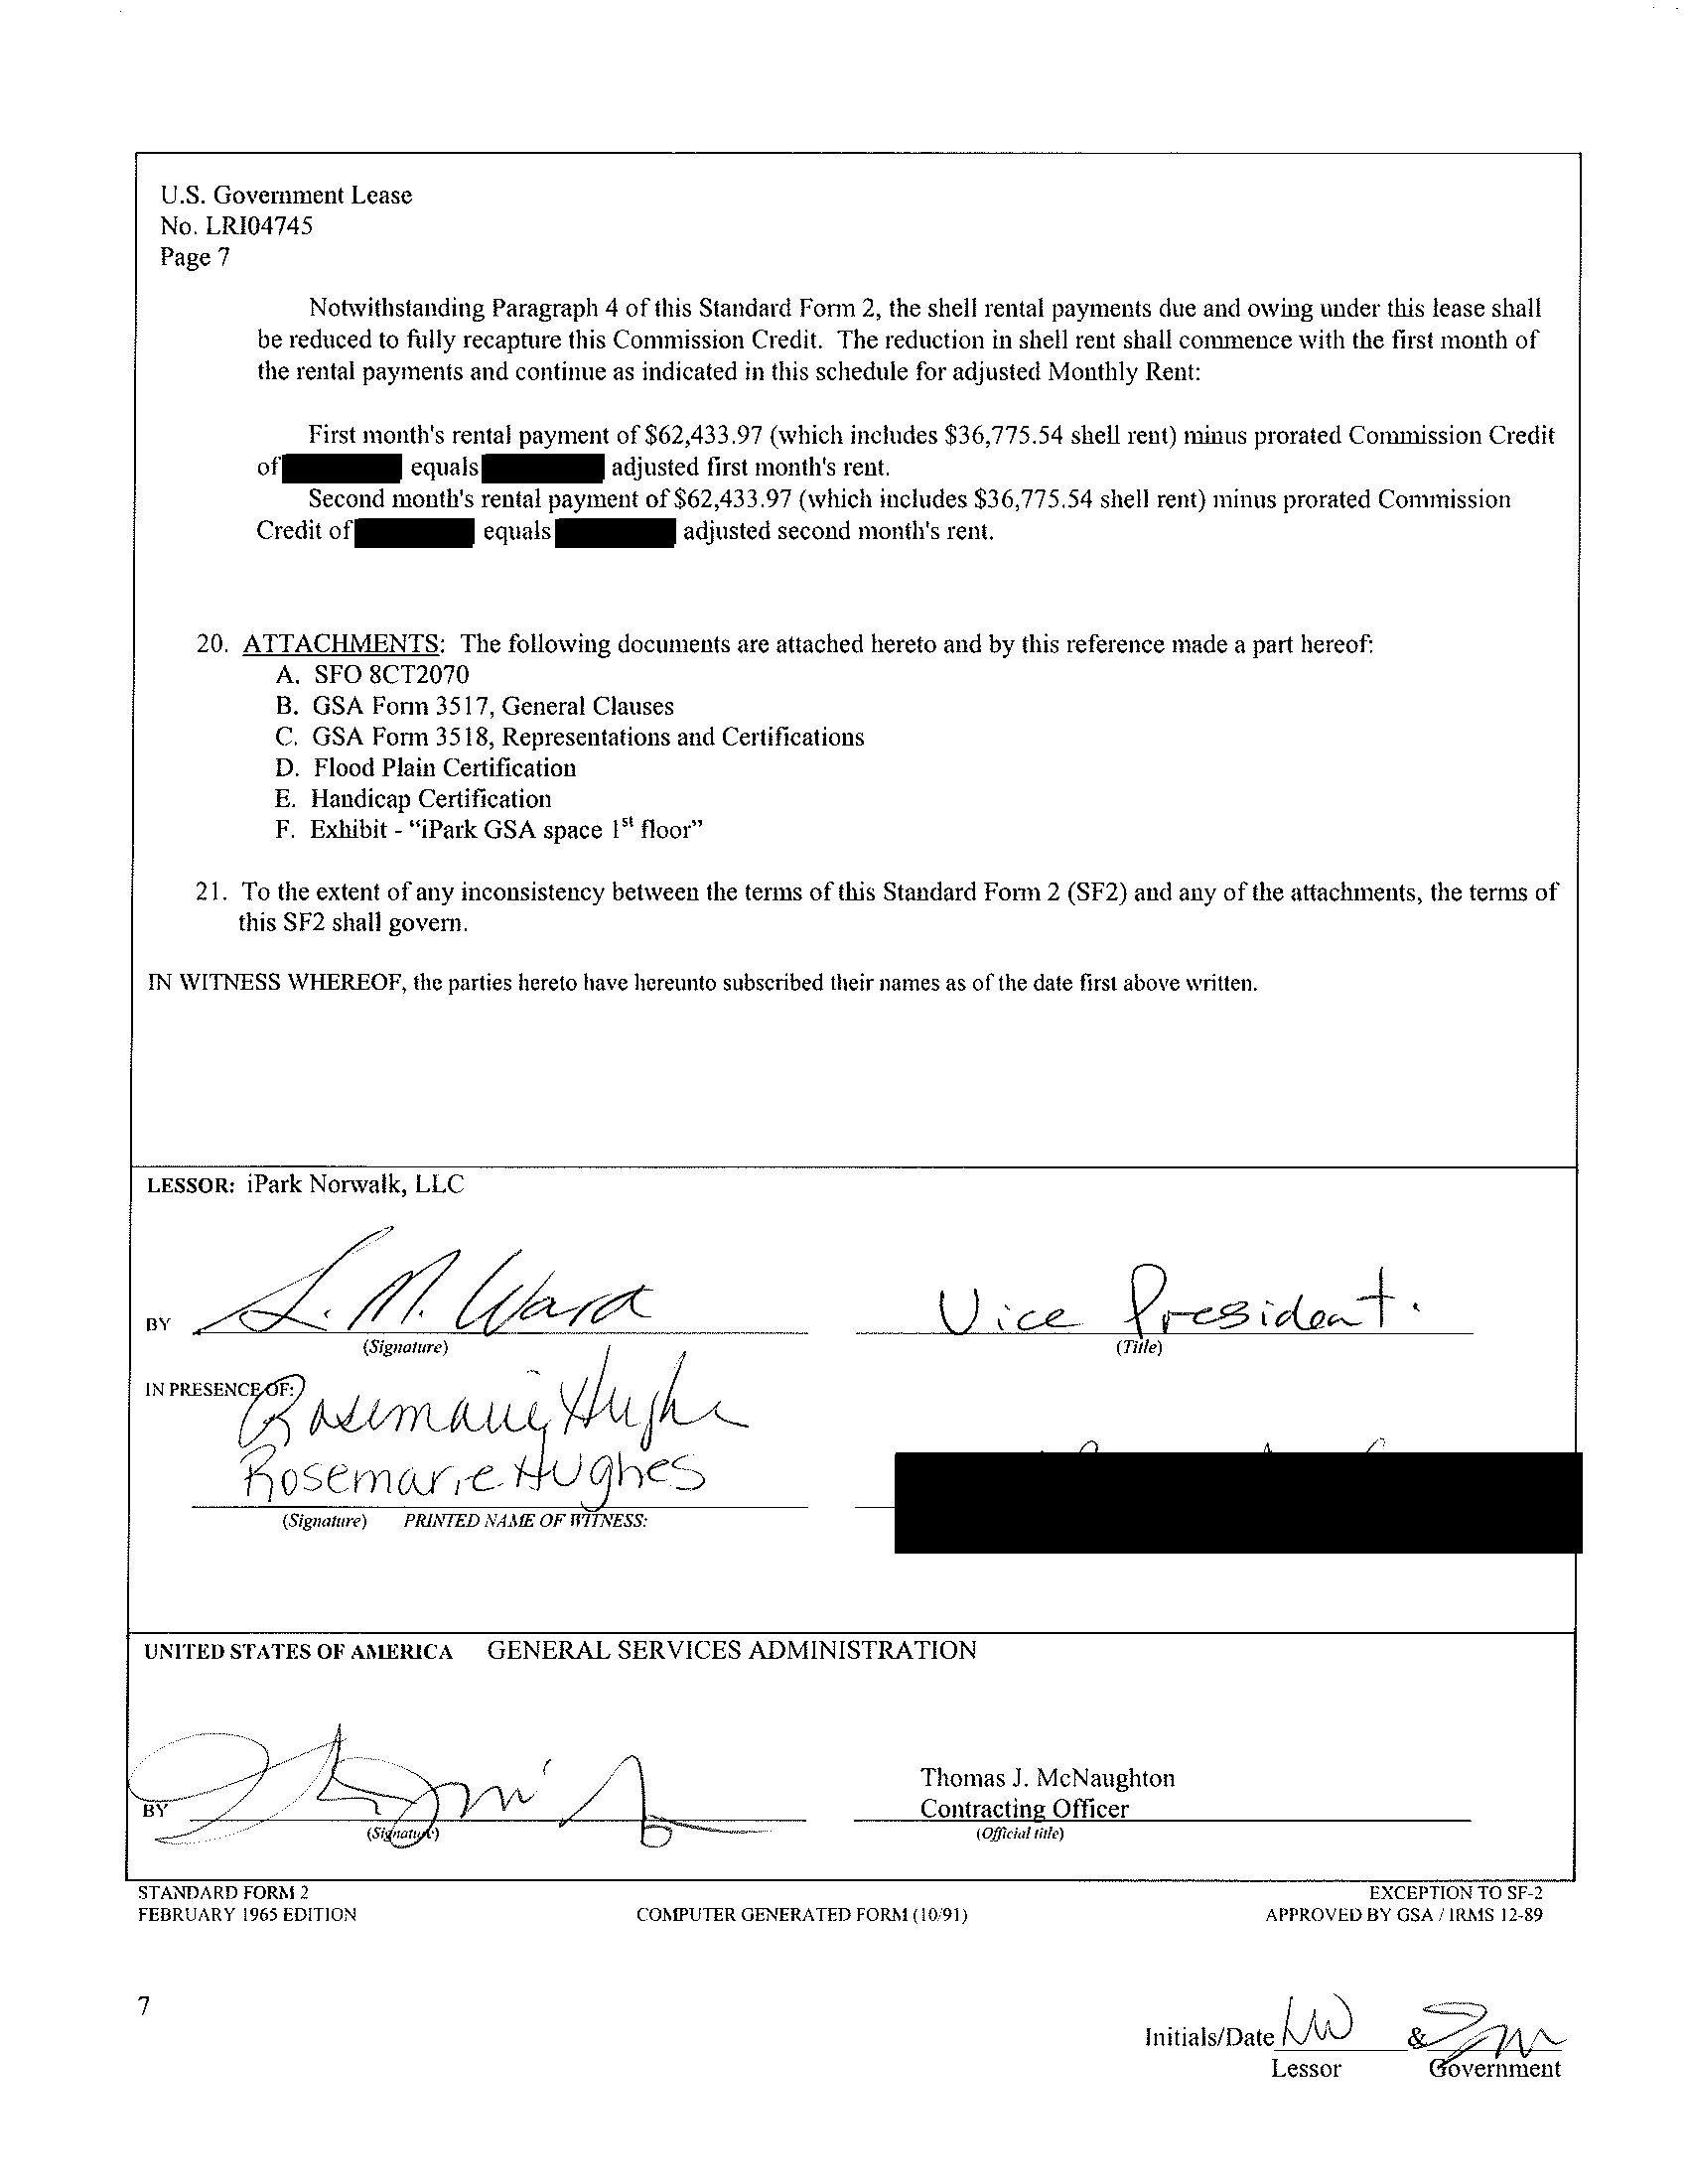handwritten: (119, 1705, 780, 1858), (236, 1369, 746, 1496), (188, 1205, 676, 1338), (922, 1252, 1399, 1328), (1277, 1959, 1573, 2058)
